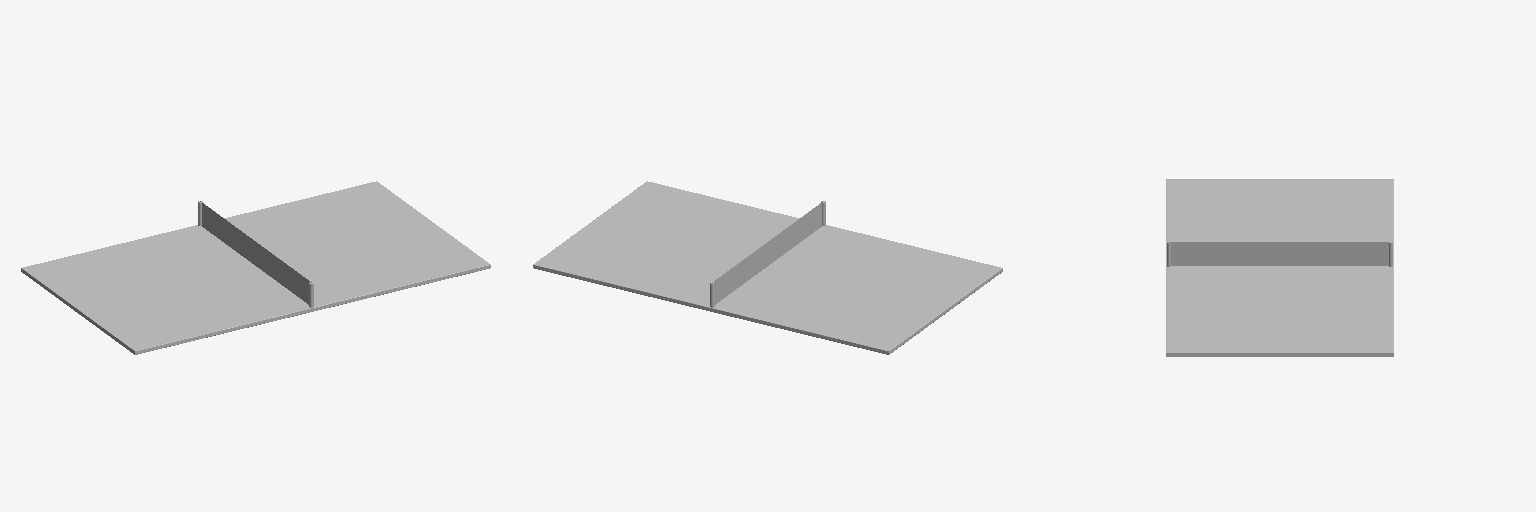
File: table7.obj
3 views of the same model, side by side, from view 1: azimuth 30°, elevation 25°; view 2: azimuth 150°, elevation 25°; view 3: azimuth 270°, elevation 25° (orthographic).
Visible parts, largest first — view 1: Box001_Untitled.003, Plane001_Untitled.015; view 2: Box001_Untitled.003, Plane001_Untitled.015; view 3: Box001_Untitled.003, Plane001_Untitled.015.
Part boxes in pixels (left/top/right/bottom): Box001_Untitled.003: left=21, top=181, right=490, bottom=354; Plane001_Untitled.015: left=200, top=201, right=311, bottom=304; Box001_Untitled.003: left=533, top=181, right=1002, bottom=354; Plane001_Untitled.015: left=712, top=201, right=823, bottom=304; Box001_Untitled.003: left=1166, top=179, right=1393, bottom=356; Plane001_Untitled.015: left=1169, top=242, right=1388, bottom=265.
Bounding box in the file's own units: 2.74 × 0.2092 × 1.52.